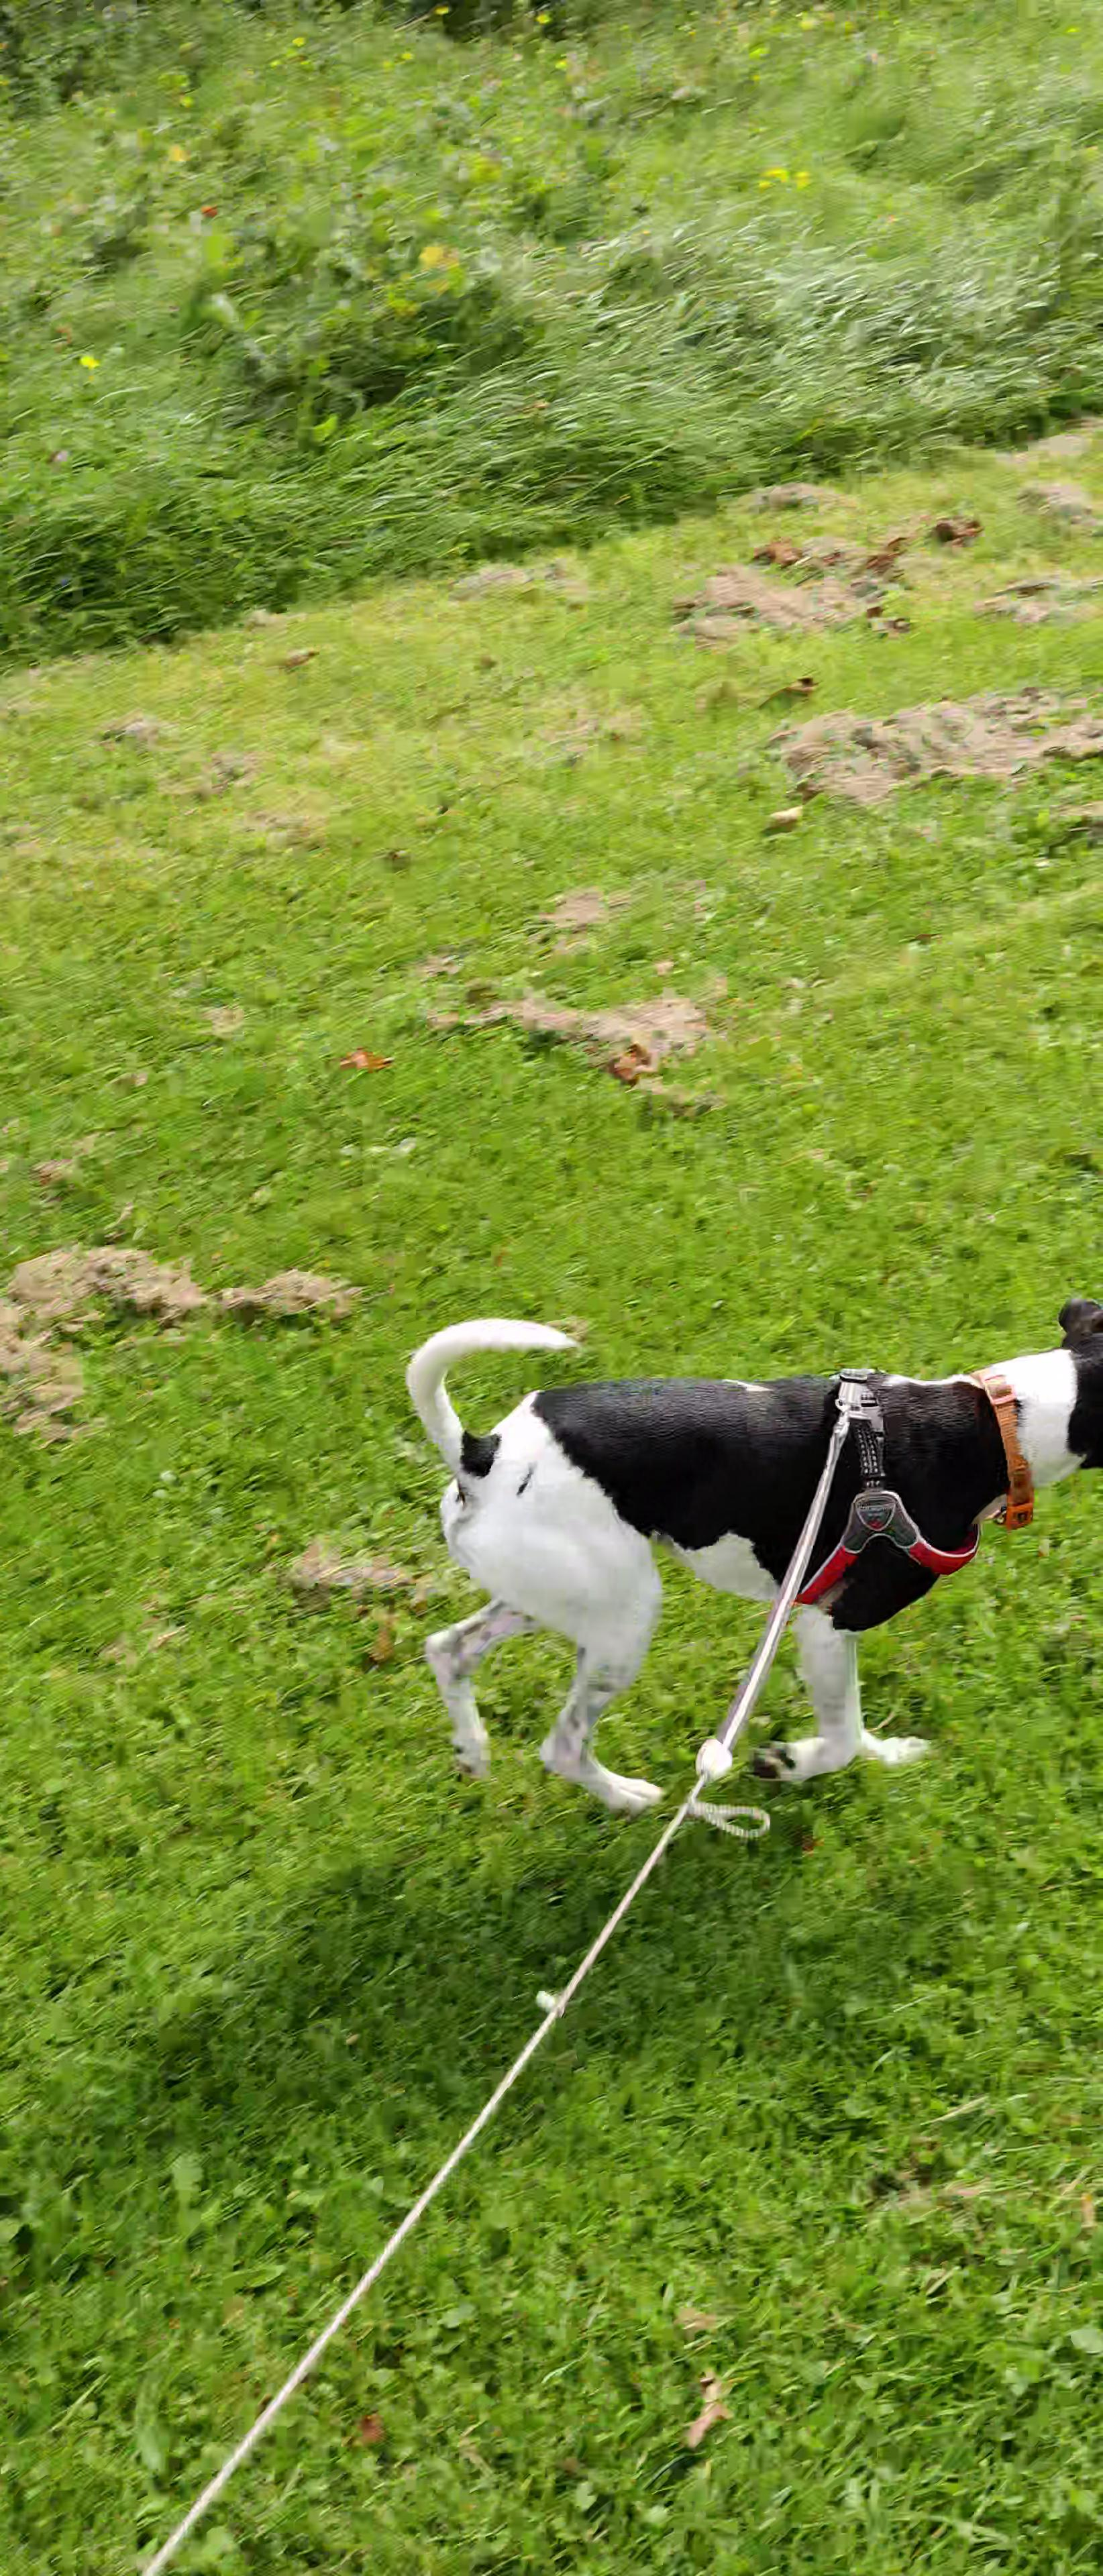Dog: (375, 1234, 1103, 1848)
